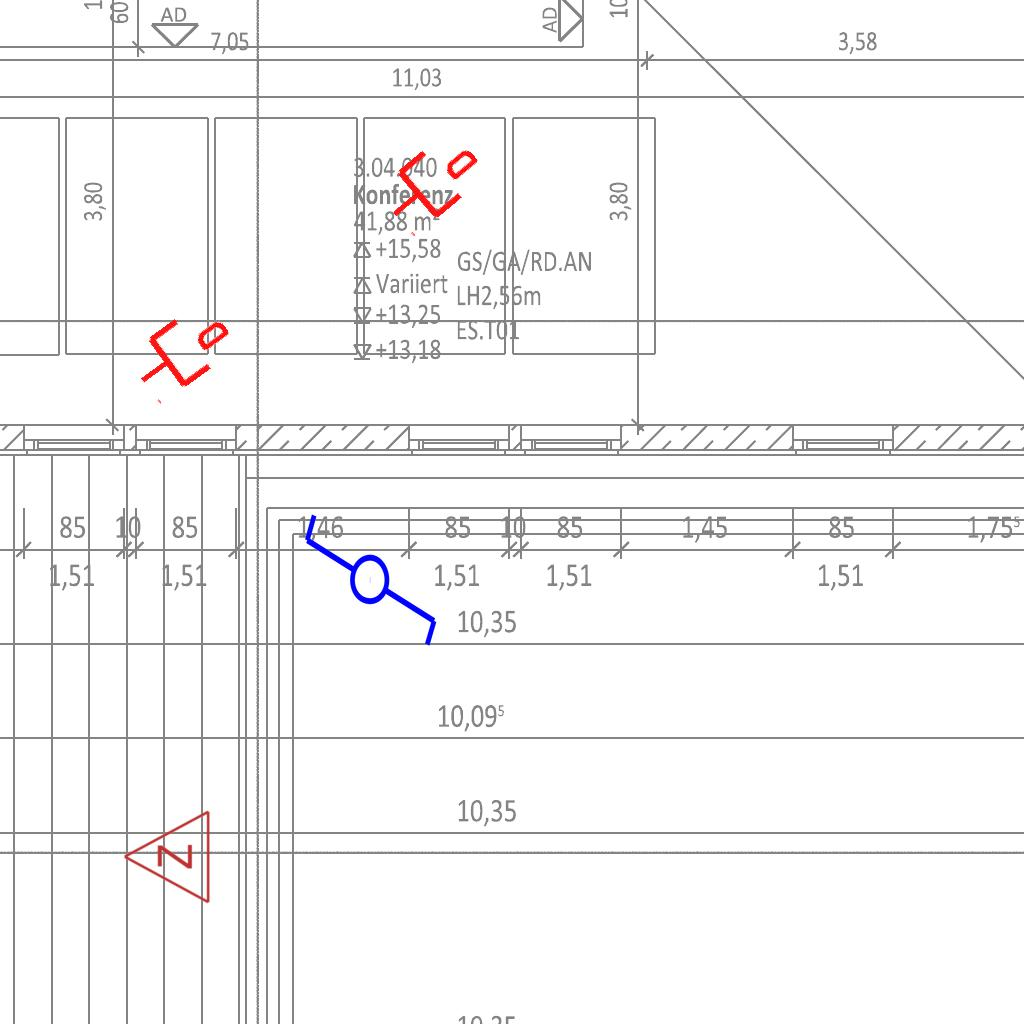Datenanschluss_einfach: (371, 124, 492, 242), (120, 294, 243, 410)
Wechselschalter: (300, 493, 444, 650)
Zimmersignalleuchte: (117, 809, 217, 907)
